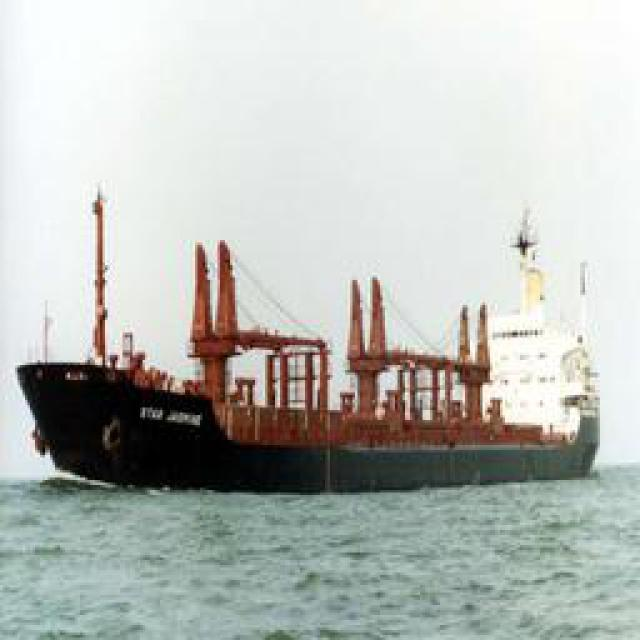Ship: (26, 225, 599, 493)
